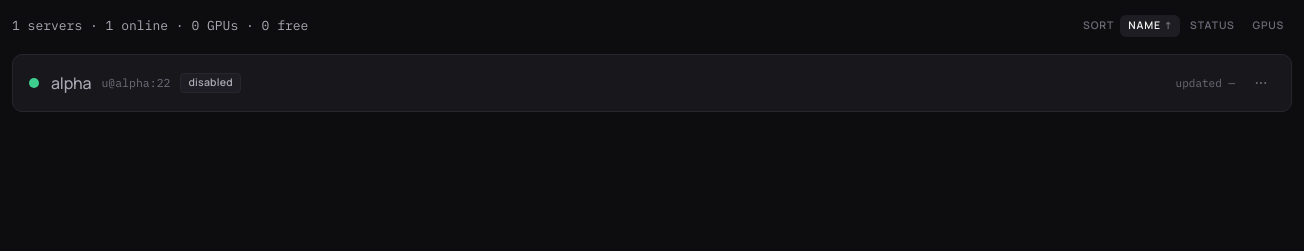
Test: fleet machine panel: offline + stale states › collapses disabled servers to a quiet identity line with a disabled chip
The width and height of the screenshot is (1304, 251).
Expected: the element with class "fleet-panel--disabled" is shown, [12,54,1292,112]
Expected: the text "disabled" is shown, [180,73,241,93]
Click the button named "Server actions: alpha": (1261, 83) [1247,69,1275,97]
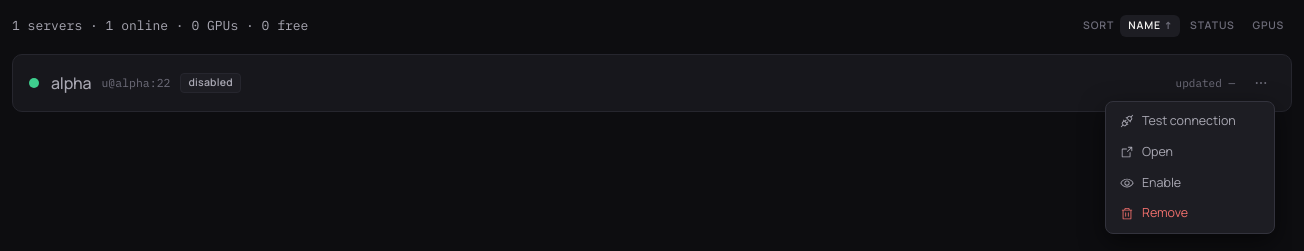
Expected: the menu item "Enable" is shown, [1110,168,1270,198]
